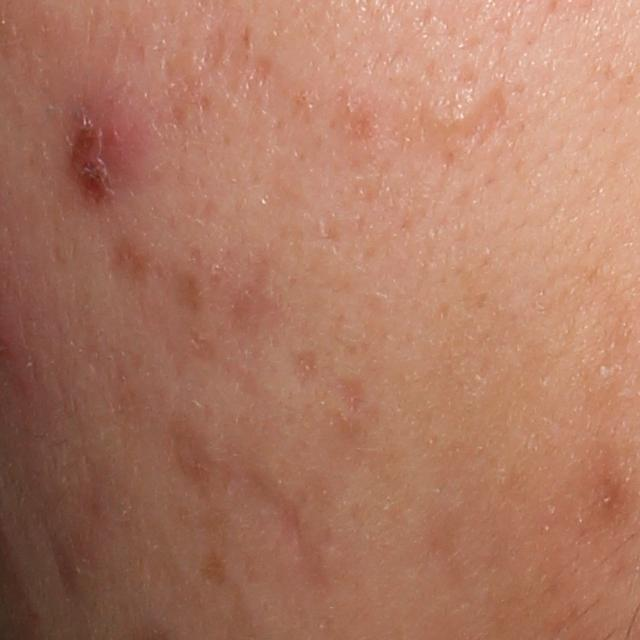atrophic_scar: (449, 78, 516, 165), (329, 377, 371, 417), (289, 348, 323, 386), (200, 25, 226, 72), (250, 53, 274, 83)
papule: (64, 96, 157, 195)
